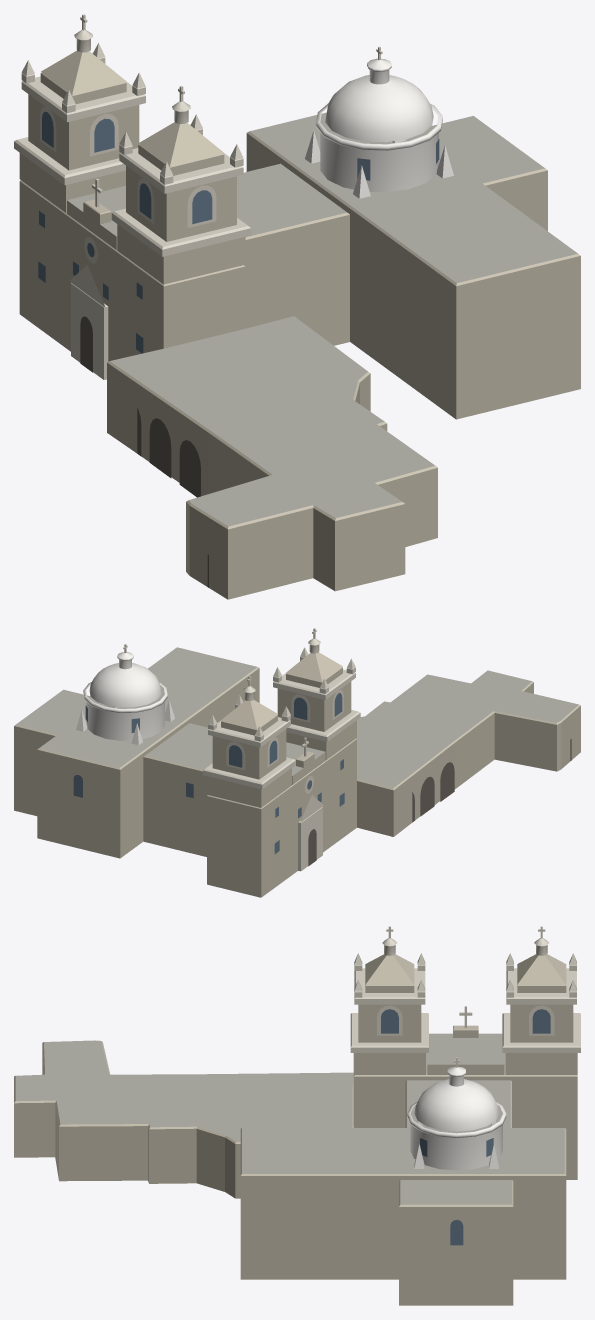
The model's file is sat-mission-concepcion.glb.
The picture shows the model from 3 angles, top to bottom: view 1: azimuth 30°, elevation 25°; view 2: azimuth 150°, elevation 25°; view 3: azimuth 270°, elevation 25°; orthographic projection. The views are drawn at different scales.
Parts seen in each view (by area): view 1: Mission Concepción; view 2: Mission Concepción; view 3: Mission Concepción.
Part boxes in pixels (x1,y1,x2,y2): Mission Concepción: [14, 14, 580, 599]; Mission Concepción: [14, 628, 580, 897]; Mission Concepción: [14, 926, 580, 1305].
Size of the model in its own units: 38.66 by 20.4 by 44.05.
